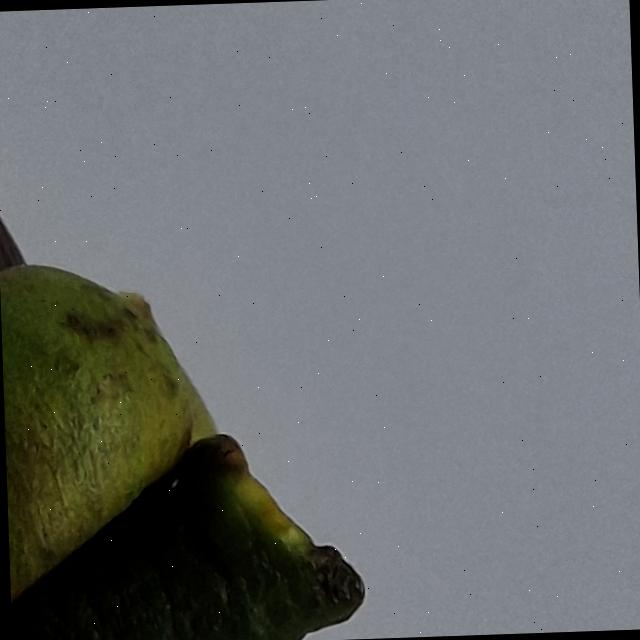mangosteen: (0, 0, 391, 640)
